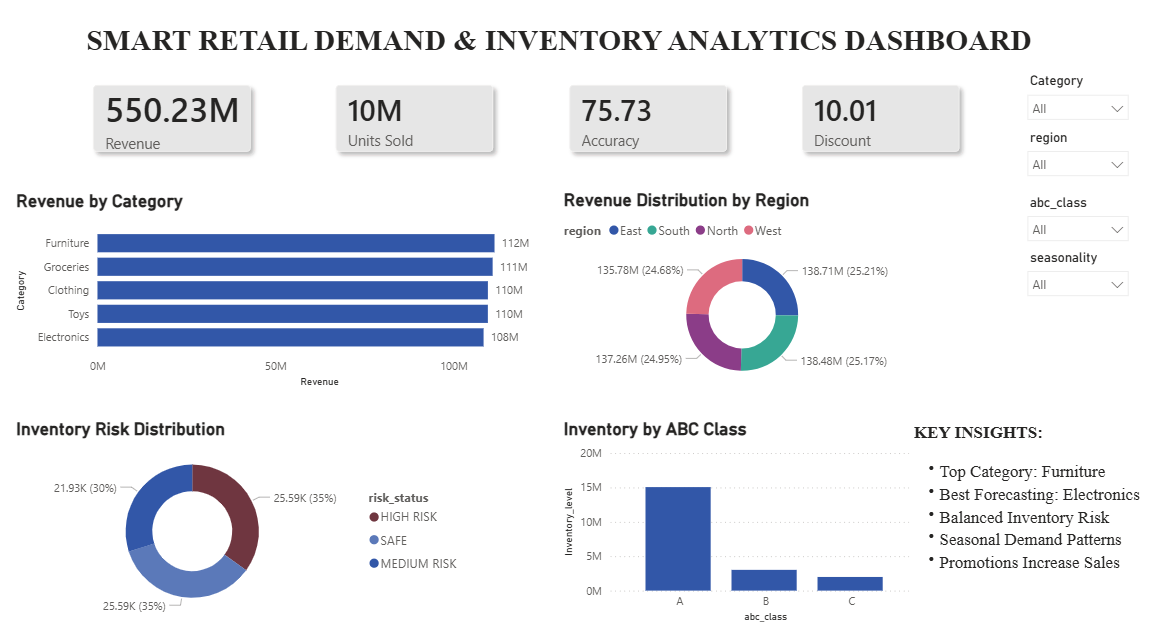

Layout of this report page (visuals, bound fields, positions):
{"tool":"powerbi","page":{"name":"Executive Overview","canvas":[1280,720],"ordinal":0},"visuals":[{"type":"cardVisual","fields":{"Data":["Sum(dashboard_dataset.revenue)"]},"box":[80.5,73.7,230.7,131],"z":0},{"type":"textbox","box":[355.4,138.6,263.5,157.8],"z":1000},{"type":"textbox","box":[0,30.2,1236.4,54.9],"z":2000},{"type":"cardVisual","fields":{"Data":["Sum(dashboard_dataset.units_sold)"]},"box":[345.3,73.7,230,131],"z":3000},{"type":"cardVisual","fields":{"Data":["Avg(dashboard_dataset.forecast_accuracy)"]},"box":[600.6,73.7,230,131],"z":4000},{"type":"cardVisual","fields":{"Data":["Avg(dashboard_dataset.discount)"]},"box":[854.4,73.7,230,131],"z":5000},{"type":"slicer","fields":{"Values":["dashboard_dataset.category"]},"box":[1119.2,84.6,131,64.2],"z":6000},{"type":"slicer","fields":{"Values":["dashboard_dataset.region"]},"box":[1119.2,146,131,71],"z":7000},{"type":"slicer","fields":{"Values":["dashboard_dataset.seasonality"]},"box":[1119.2,277.1,131,71],"z":8000},{"type":"slicer","fields":{"Values":["dashboard_dataset.abc_class"]},"box":[1119.2,217,131,58.7],"z":9000},{"type":"clusteredBarChart","fields":{"Category":["dashboard_dataset.category"],"Y":["Sum(dashboard_dataset.revenue)"]},"box":[20.5,218.4,600,219.7],"z":10000},{"type":"donutChart","title":"Revenue Distribution by Region","fields":{"Category":["dashboard_dataset.region"],"Y":["Sum(dashboard_dataset.revenue)"]},"box":[618.3,217,399.9,219.7],"z":11000},{"type":"clusteredColumnChart","title":"Inventory by ABC Class","fields":{"Category":["dashboard_dataset.abc_class"],"Y":["Sum(dashboard_dataset.inventory_level)"]},"box":[618.3,466.8,399.9,227.9],"z":12000},{"type":"donutChart","title":"Inventory Risk Distribution","fields":{"Category":["dashboard_dataset.risk_status"],"Y":["CountNonNull(dashboard_dataset.product_id)"]},"box":[20.5,466.8,499.6,222.5],"z":13000},{"type":"textbox","box":[1000.5,466.8,268.9,222.5],"z":13001}]}

Visuals, with their boxes in screenshot pixels (x1, y1, x2, y2), scaled from the page's 1280x720 canvas onto the 1152x632 screenshot:
cardVisual - Sum(dashboard_dataset.revenue): 72 65 280 180
textbox: 320 122 557 260
textbox: 0 27 1113 75
cardVisual - Sum(dashboard_dataset.units_sold): 311 65 518 180
cardVisual - Avg(dashboard_dataset.forecast_accuracy): 541 65 748 180
cardVisual - Avg(dashboard_dataset.discount): 769 65 976 180
slicer - dashboard_dataset.category: 1007 74 1125 131
slicer - dashboard_dataset.region: 1007 128 1125 190
slicer - dashboard_dataset.seasonality: 1007 243 1125 306
slicer - dashboard_dataset.abc_class: 1007 190 1125 242
clusteredBarChart - dashboard_dataset.category x Sum(dashboard_dataset.revenue): 18 192 558 385
"Revenue Distribution by Region" donutChart: 556 190 916 383
"Inventory by ABC Class" clusteredColumnChart: 556 410 916 610
"Inventory Risk Distribution" donutChart: 18 410 468 605
textbox: 900 410 1142 605
